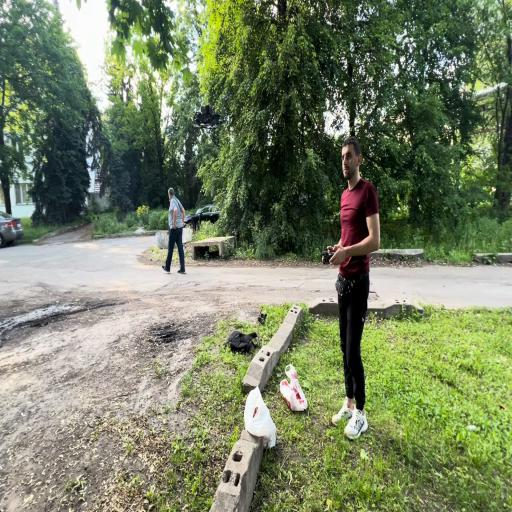drone: (191, 104, 224, 130)
